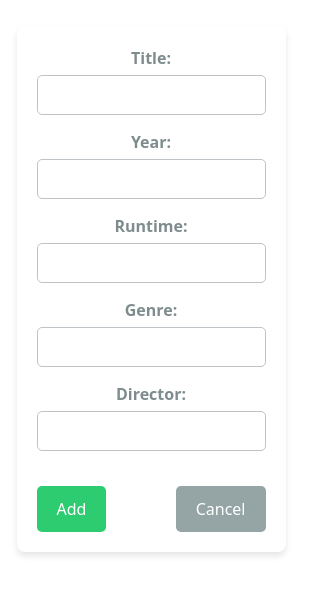
Test: MovieForm › shows validation errors on form submission with empty fields
This screenshot has width=320, height=597.
Click the button "Add" at (71,509), box [36,486,106,532]
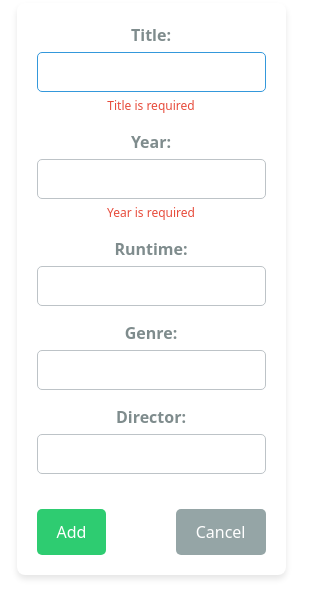
Result: the text "Title is required" is shown at [107,97,195,114]
Result: the text "Year is required" is shown at [107,204,195,221]
